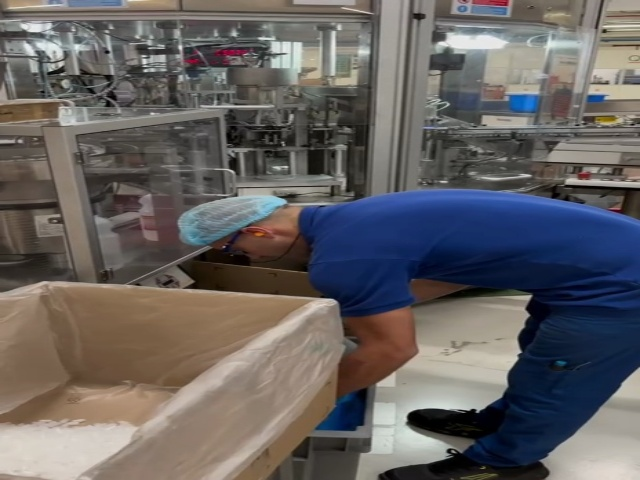Earplug: (240, 226, 280, 239)
Hairnet: (181, 194, 278, 246)
No_Helmet: (179, 196, 286, 244)
No_Vest: (304, 196, 637, 300)
Person: (177, 187, 640, 480)
Safety_Goggles: (215, 219, 253, 256)
